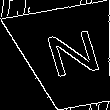N_S: (36, 28, 102, 87)
